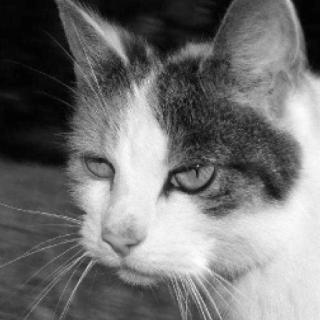cat: (42, 0, 314, 298)
nose: (97, 190, 166, 262)
